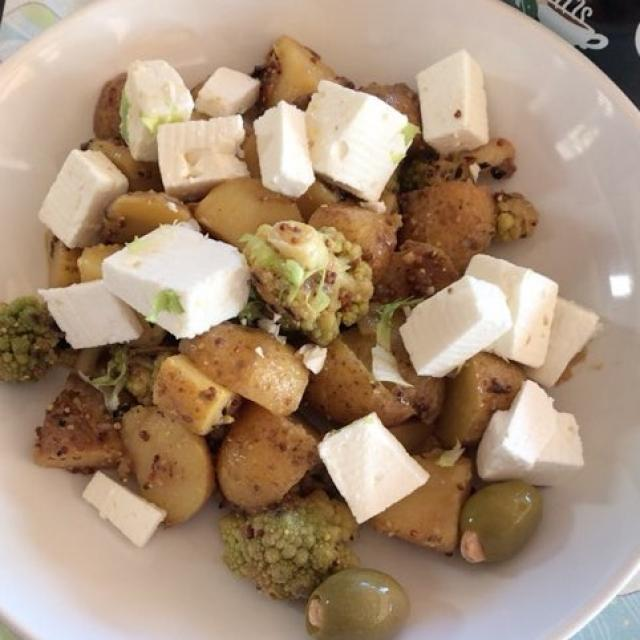feta: (26, 51, 596, 552)
potatoes-steamed: (55, 51, 542, 557)
romanesco: (1, 141, 546, 608)
